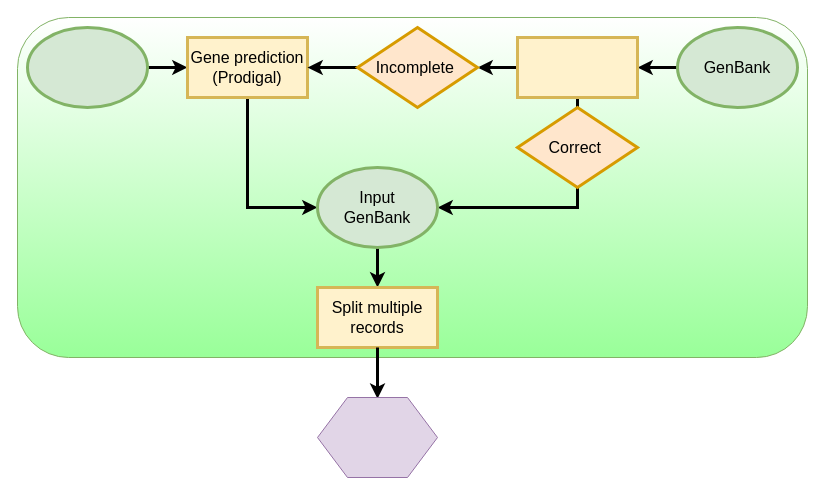
Some shapes in this 825 by 495 pixel diagram are drawn without their labels. Each missing label, with the centre of its shape:
Fasta (DNA): the point at 87,67
Prediction pipeline: the point at 377,437
Sanity Check: the point at 577,67
